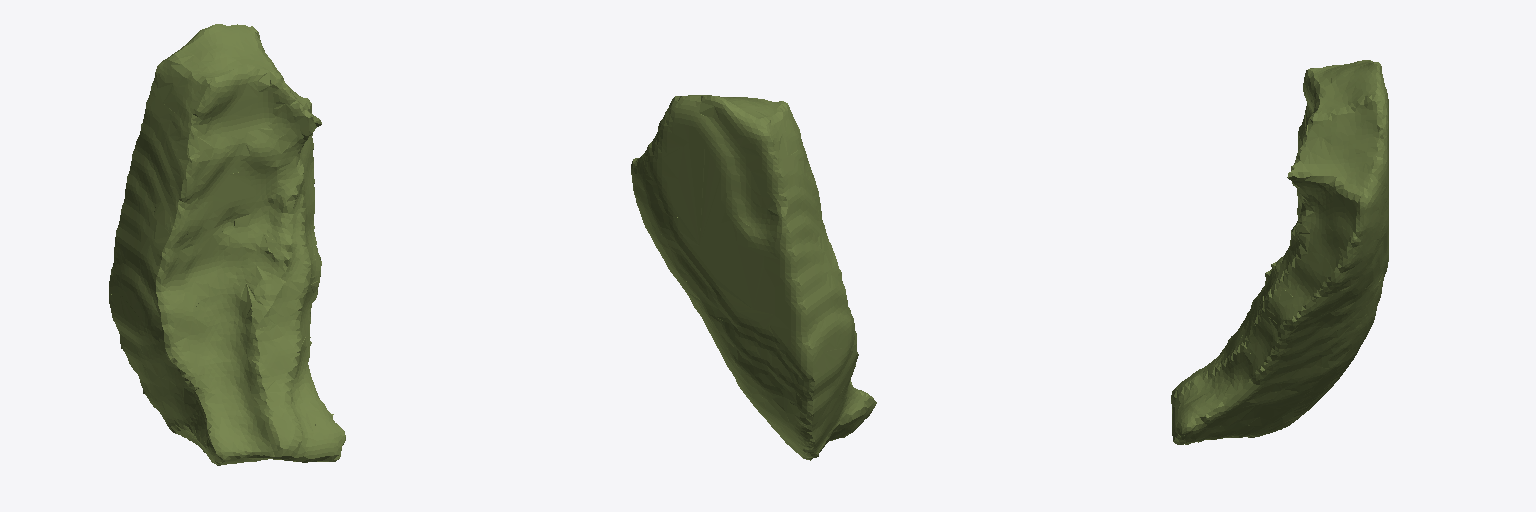
Rendered from Model_10089_LH__Entorhinal_cortex_(Ent).obj.
3 views of the same model, side by side, from view 1: azimuth 30°, elevation 25°; view 2: azimuth 150°, elevation 25°; view 3: azimuth 270°, elevation 25° (orthographic).
Size of the model in its own units: 3.58 by 6.92 by 3.52.